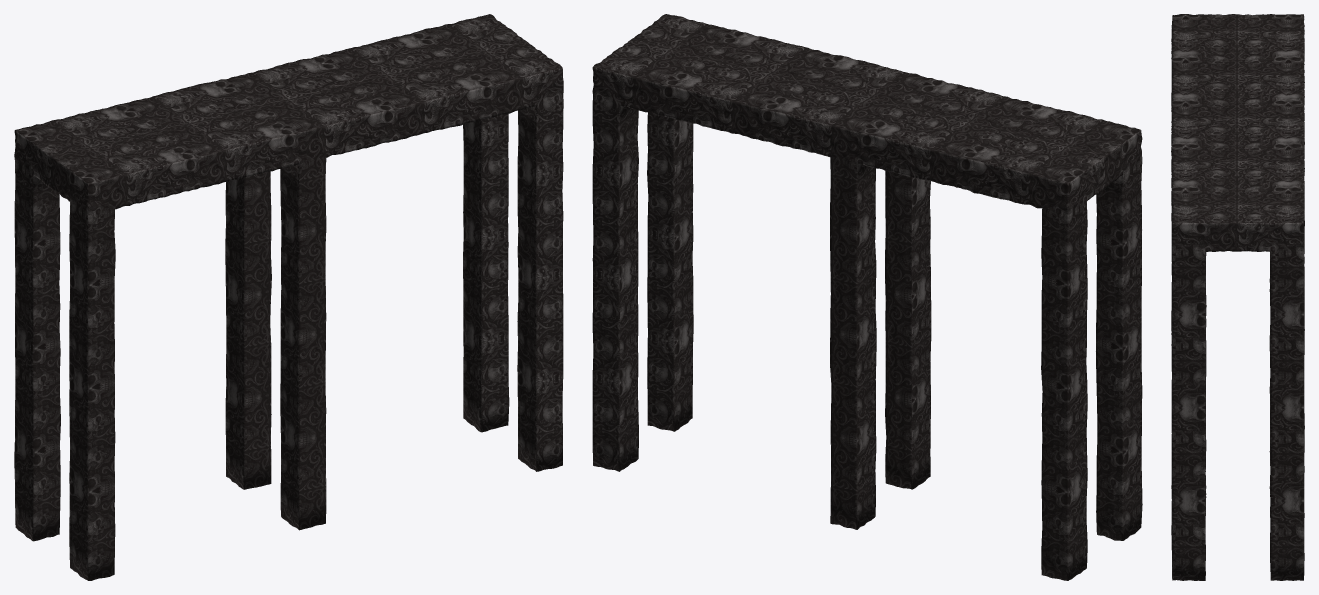
Rendered from dock2.glb.
3 renders of one model, left to right at view 1: azimuth 30°, elevation 25°; view 2: azimuth 150°, elevation 25°; view 3: azimuth 270°, elevation 25°, orthographic. The views are drawn at different scales.
Parts seen in each view (by area): view 1: dock.002; view 2: dock.002; view 3: dock.002.
Part boxes in pixels (bbox=[...]): dock.002: bbox=[14, 14, 563, 580]; dock.002: bbox=[592, 14, 1142, 580]; dock.002: bbox=[1171, 14, 1304, 580].
Bounding box in the file's own units: 120 × 96.59 × 32.57.
Materials: 1 (1 with a texture image).
